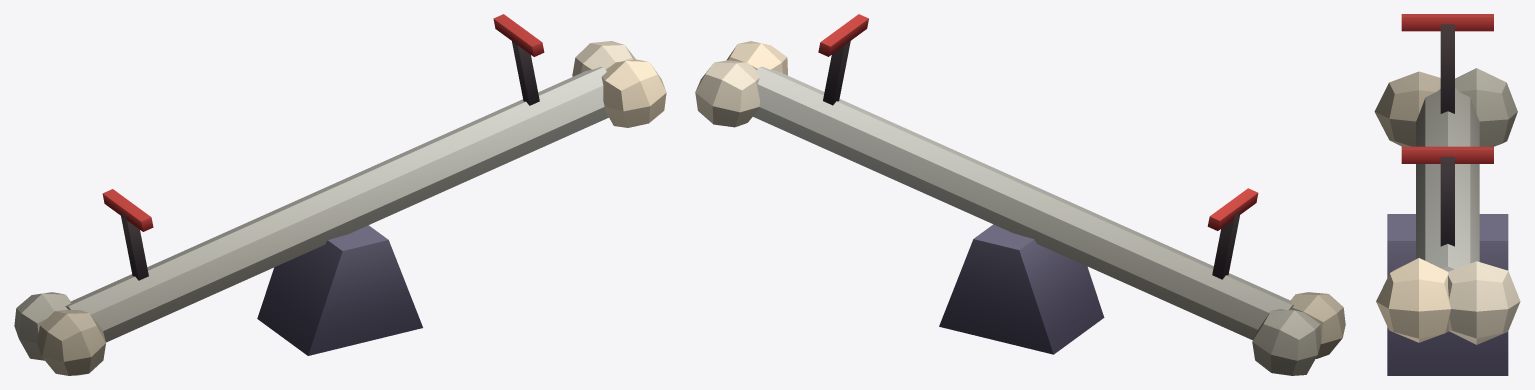
Rendered from PlayGround_Kit_Seesaw_Bone.fbx.
3 renders of one model, left to right at view 1: azimuth 30°, elevation 25°; view 2: azimuth 150°, elevation 25°; view 3: azimuth 270°, elevation 25°, orthographic. The views are drawn at different scales.
Visible parts, largest first — view 1: PlayGround_Kit_Seesaw_Bone; view 2: PlayGround_Kit_Seesaw_Bone; view 3: PlayGround_Kit_Seesaw_Bone.
Part boxes in pixels (box(x1,y1,x2,y2)): PlayGround_Kit_Seesaw_Bone: box(14, 14, 666, 375); PlayGround_Kit_Seesaw_Bone: box(695, 14, 1345, 375); PlayGround_Kit_Seesaw_Bone: box(1374, 14, 1520, 375).
Bounding box in the file's own units: 2.96 × 1.14 × 0.5064.
